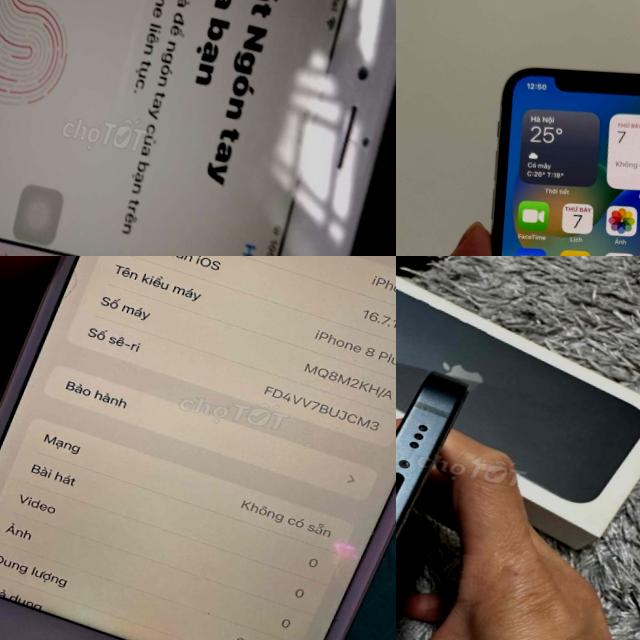gen_12_13: (396, 334, 485, 640)
gen_6: (0, 0, 396, 256)
gen_7_8: (0, 256, 396, 640)
gen_x_xs: (416, 35, 640, 256)
